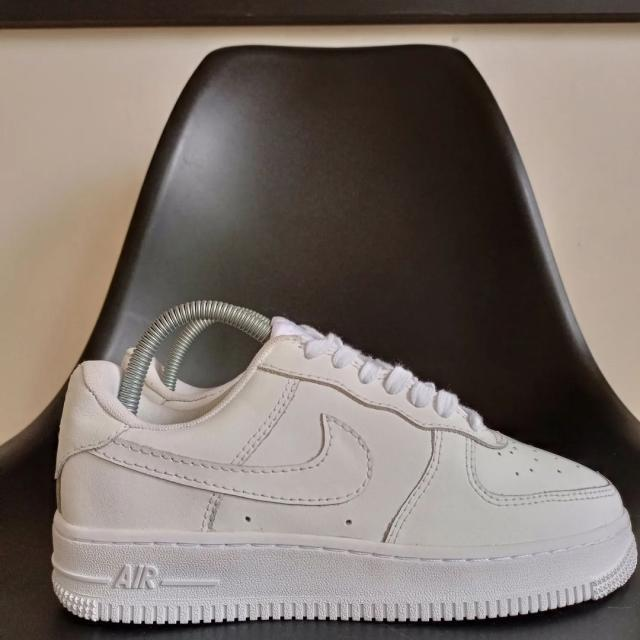nike fake air force: (51, 292, 638, 624)
